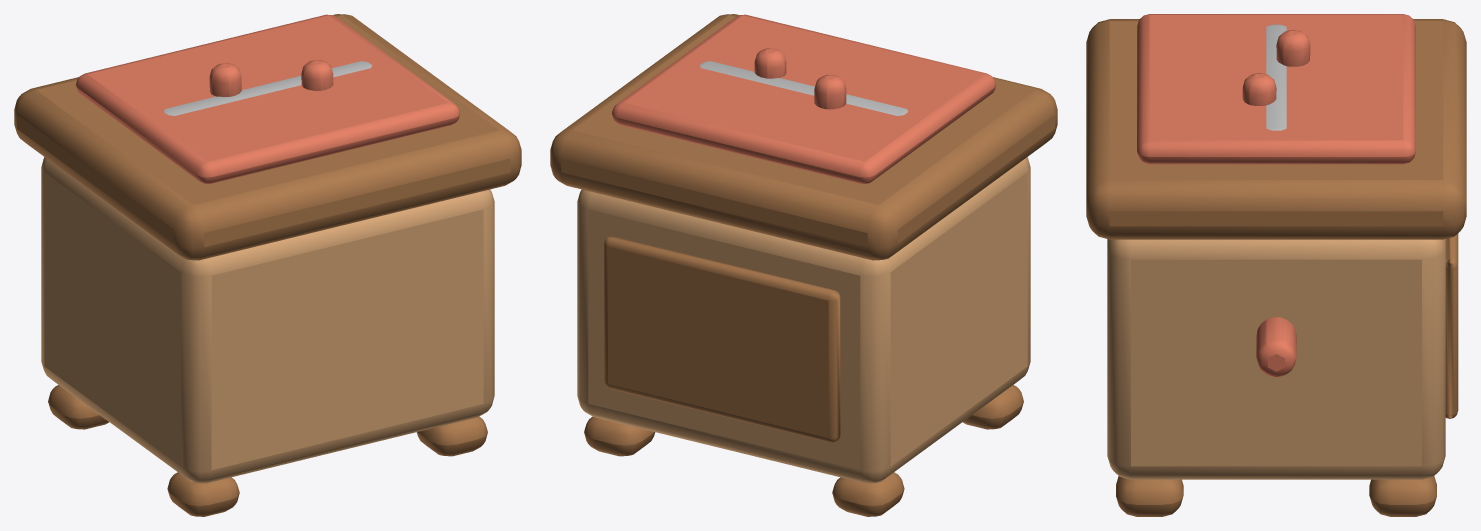
File: music_box.glb
3 renders of one model, left to right at view 1: azimuth 30°, elevation 25°; view 2: azimuth 150°, elevation 25°; view 3: azimuth 270°, elevation 25°, orthographic. The views are drawn at different scales.
Parts seen in each view (by area): view 1: body; view 2: body; view 3: body.
Boxes of the visible parts, x1,y1,x2,y2 form: body: [14, 14, 521, 516]; body: [550, 14, 1057, 516]; body: [1086, 14, 1466, 516].
Size of the model in its own units: 0.6938 by 0.6438 by 0.5625.
